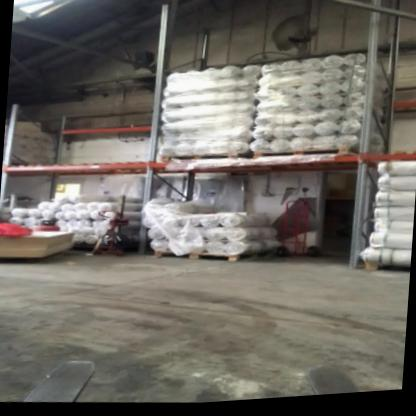vertical_damage: (345, 245, 367, 275)
